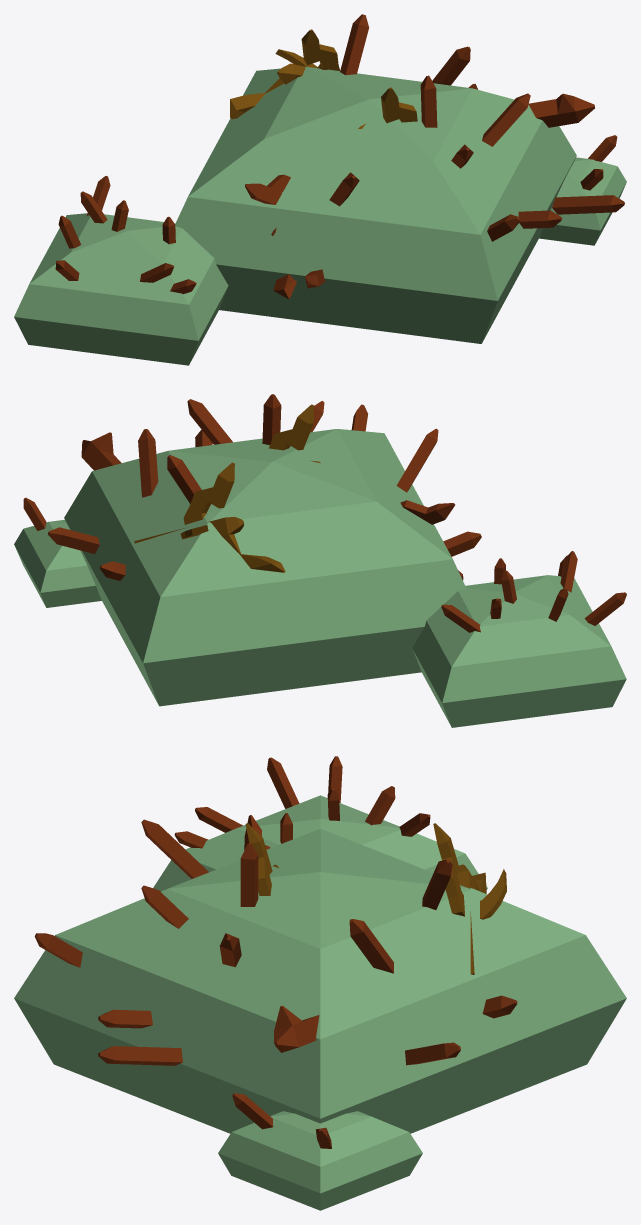
Rendered from arbusto.fbx.
3 renders of one model, top to bottom at view 1: azimuth 30°, elevation 25°; view 2: azimuth 150°, elevation 25°; view 3: azimuth 270°, elevation 25°, orthographic. The views are drawn at different scales.
Visible parts, largest first — view 1: Cube.027; view 2: Cube.027; view 3: Cube.027.
Part boxes in pixels (box(x1,y1,x2,y2)): Cube.027: box(14, 14, 626, 365); Cube.027: box(14, 394, 626, 727); Cube.027: box(14, 756, 626, 1210).
Bounding box in the file's own units: 696 × 220 × 509.
